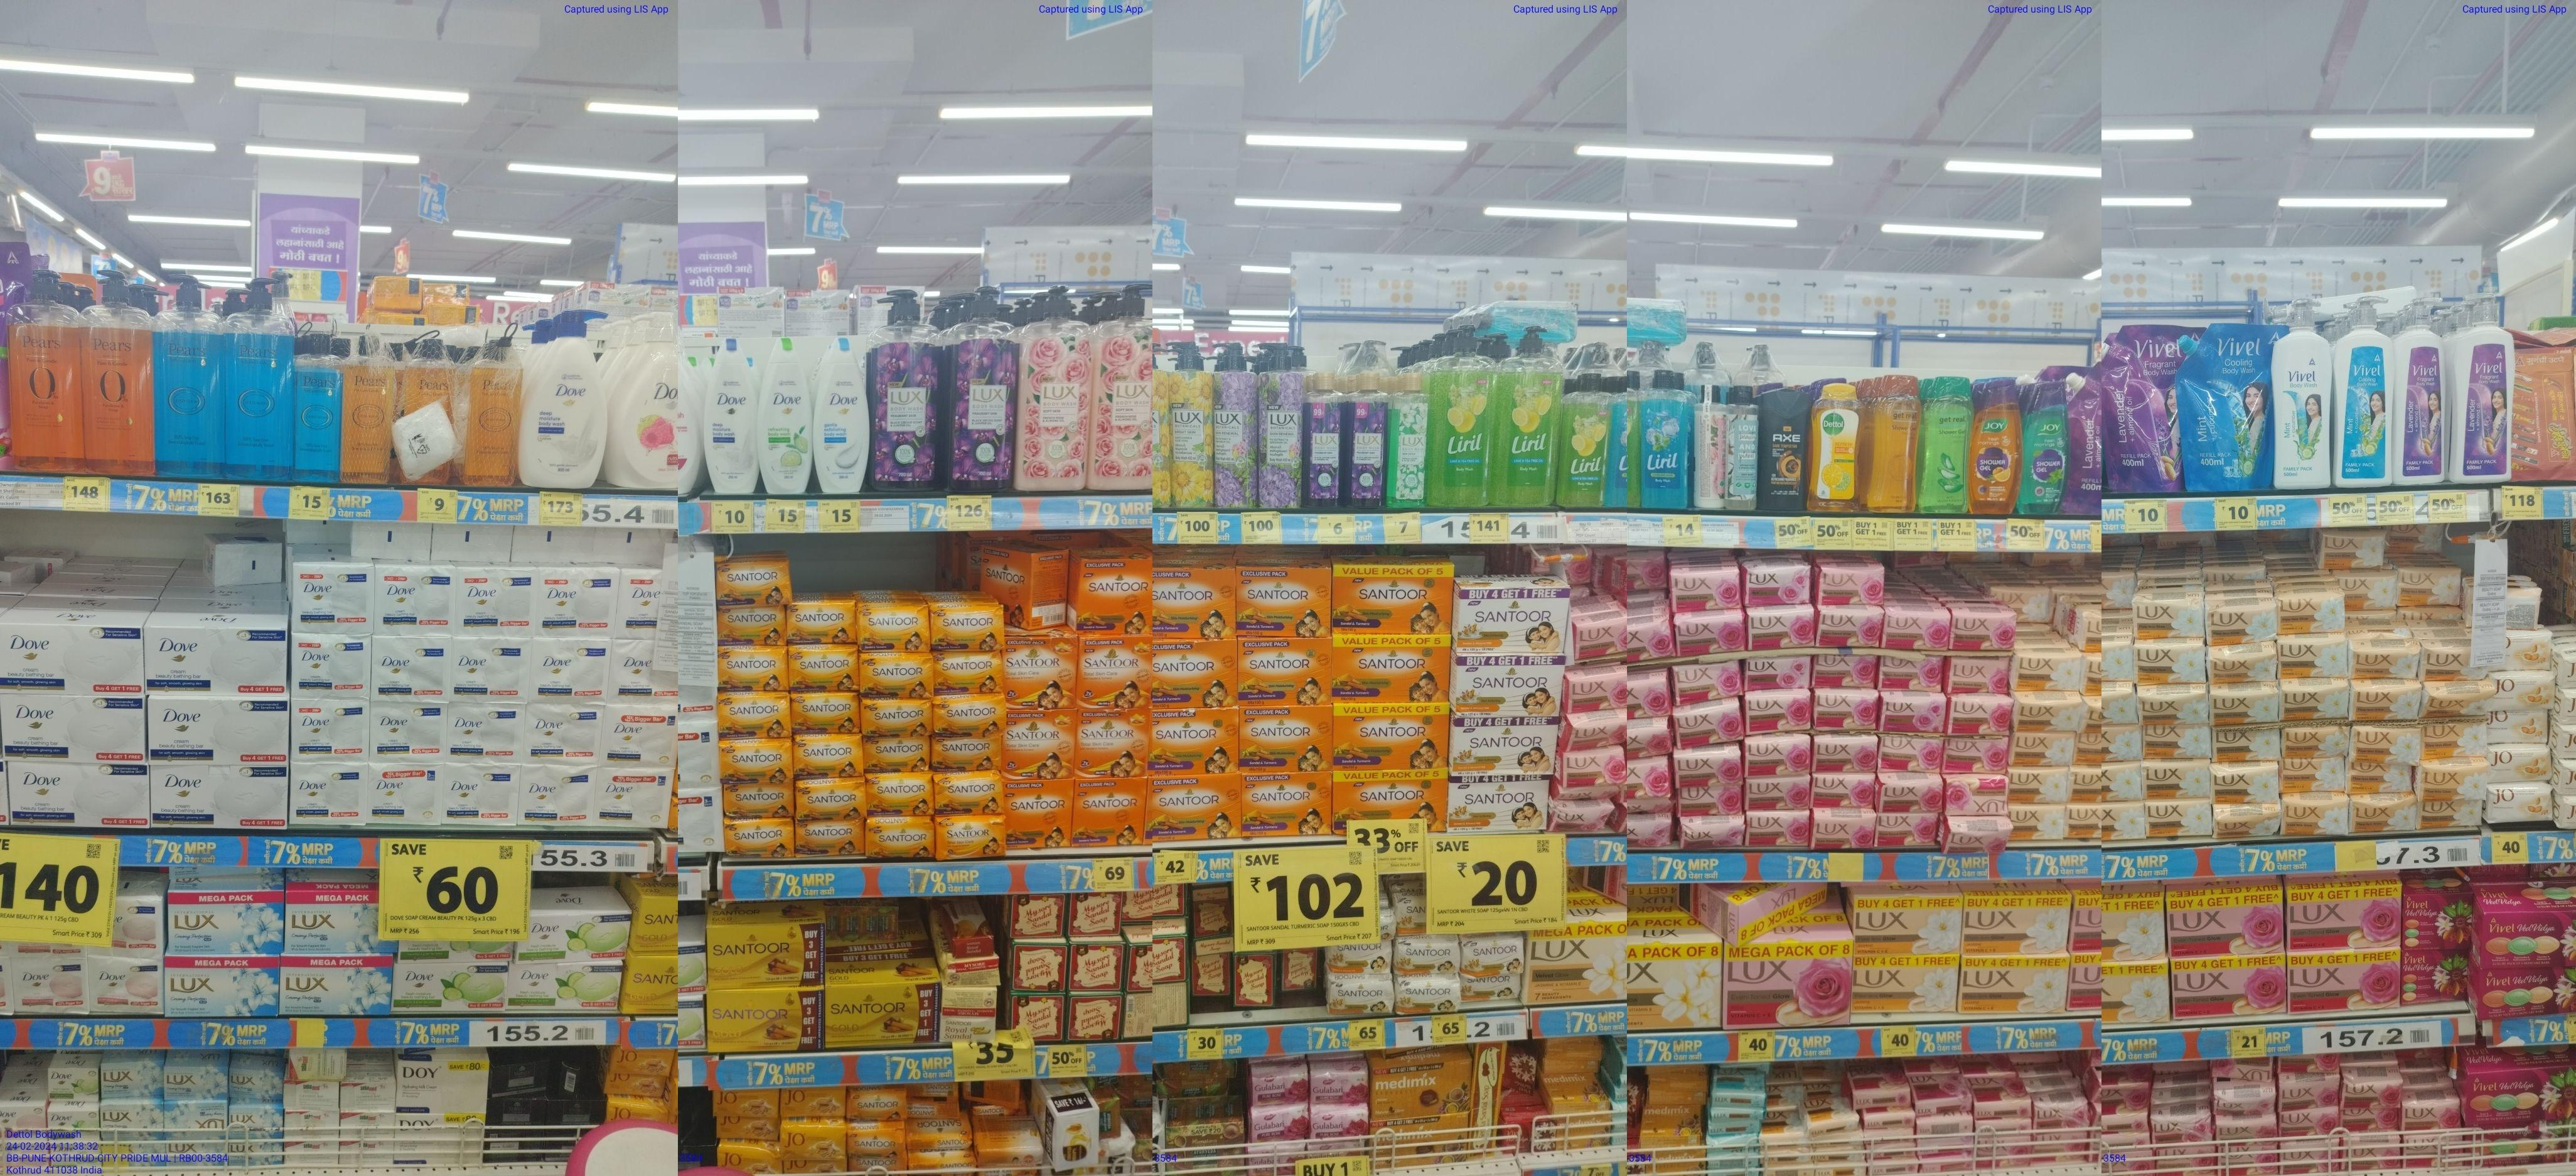Dettol_Bodywash_Refresh: (1809, 386, 1863, 509)
Dove_Deep_Moisture_Body_Wash_250ML: (705, 340, 759, 494)
Dove_Gentle_Exfoliating_Body_Wash_250ML: (815, 342, 869, 494)
Dove_Refreshing_Body_Wash_250ML: (762, 342, 813, 494)
Get_Real_Shower_Gel_Moisturising_Glycerin_300ML: (1870, 378, 1919, 516)
Joy_Shower_Gel_Mandarin_and_Lemongrass_250ML: (1968, 383, 2019, 512)
Joy_Shower_Gel_Mint_and_Eucalyptus_250ML: (2024, 383, 2067, 516)
Liril_Cooling_Mint_Body_Wash_250ML: (1640, 371, 1690, 512)
Liril_Lime_and_Tea_Tree_Oil_Body_Wash_250ML: (1557, 374, 1605, 508)
Lux_Black_Orchid_Scent_and_Juniper_Oil_Body_Wash_245ML: (1344, 373, 1387, 512), (1304, 374, 1344, 509)
Lux_Body_Wash_Skin_Detox_Freesia_Scent_and_Alove_Vera_245ML: (1387, 374, 1429, 509)
